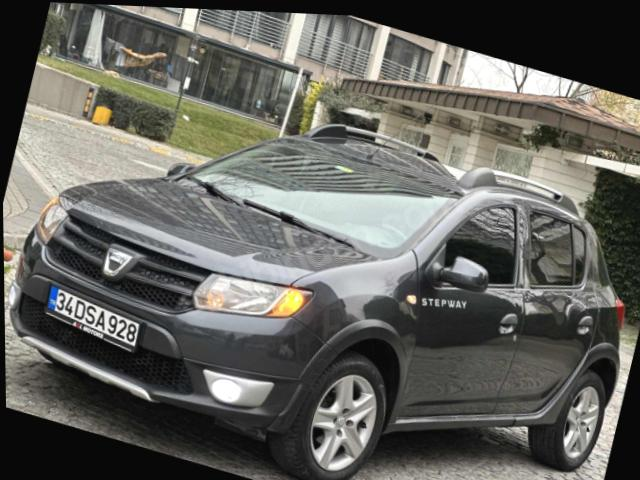plaka: (45, 286, 139, 351)
